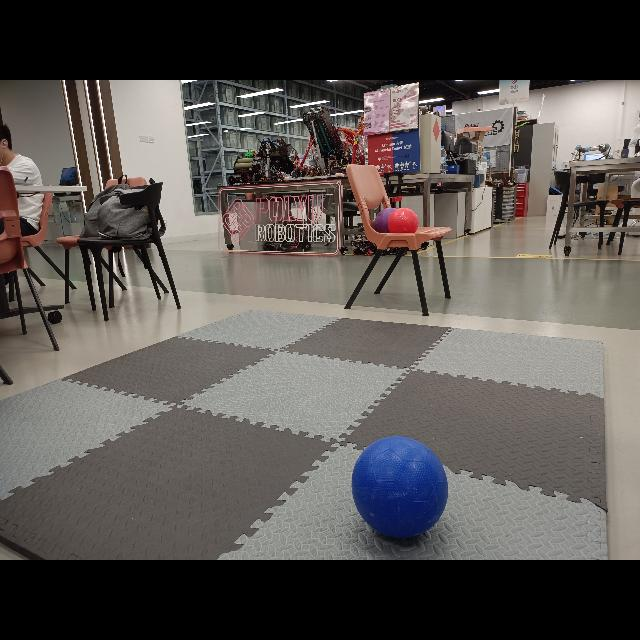B: (352, 436, 448, 538)
P: (375, 208, 399, 235)
R: (388, 208, 418, 232)
